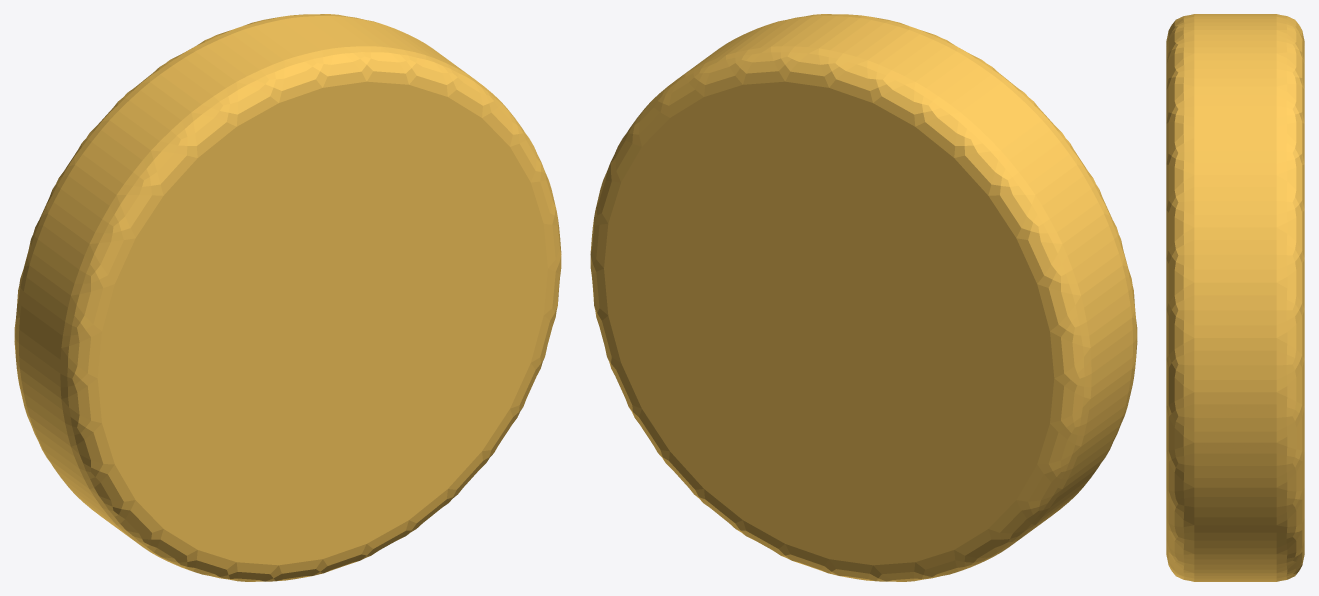
Rendered from coin_.fbx.
3 renders of one model, left to right at view 1: azimuth 30°, elevation 25°; view 2: azimuth 150°, elevation 25°; view 3: azimuth 270°, elevation 25°, orthographic.
Parts seen in each view (by area): view 1: Cylinder; view 2: Cylinder; view 3: Cylinder.
Part boxes in pixels (left/top/right/bottom): Cylinder: left=14, top=14, right=561, bottom=581; Cylinder: left=590, top=14, right=1137, bottom=581; Cylinder: left=1166, top=14, right=1304, bottom=581.
Size of the model in its own units: 36.92 by 36.92 by 8.97.
